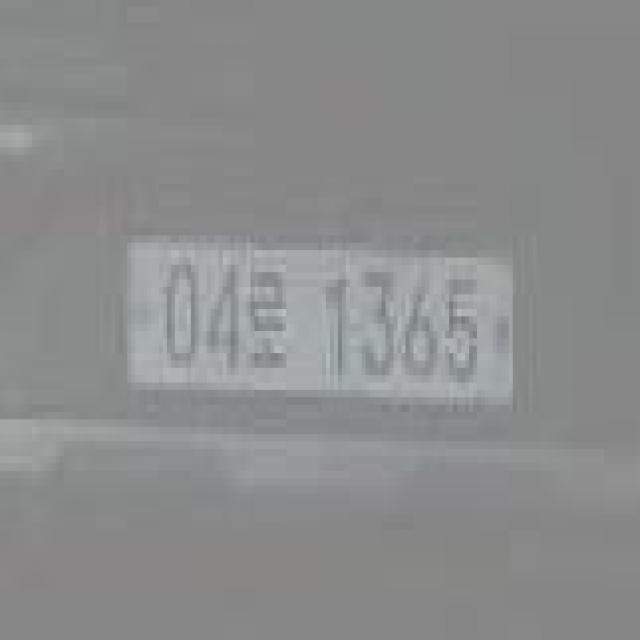illegal_plate: (117, 228, 526, 428)
